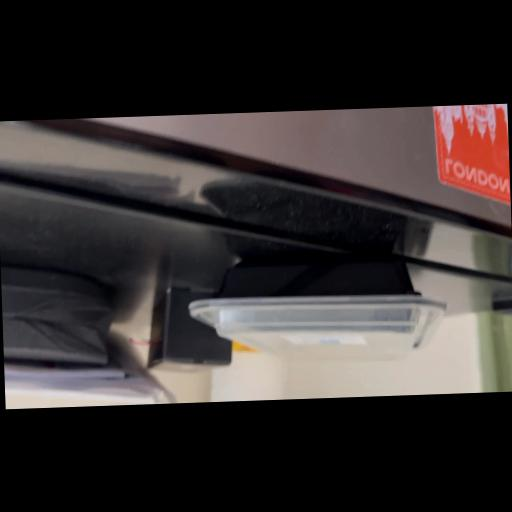rigid_plastic_container: (192, 252, 446, 368)
